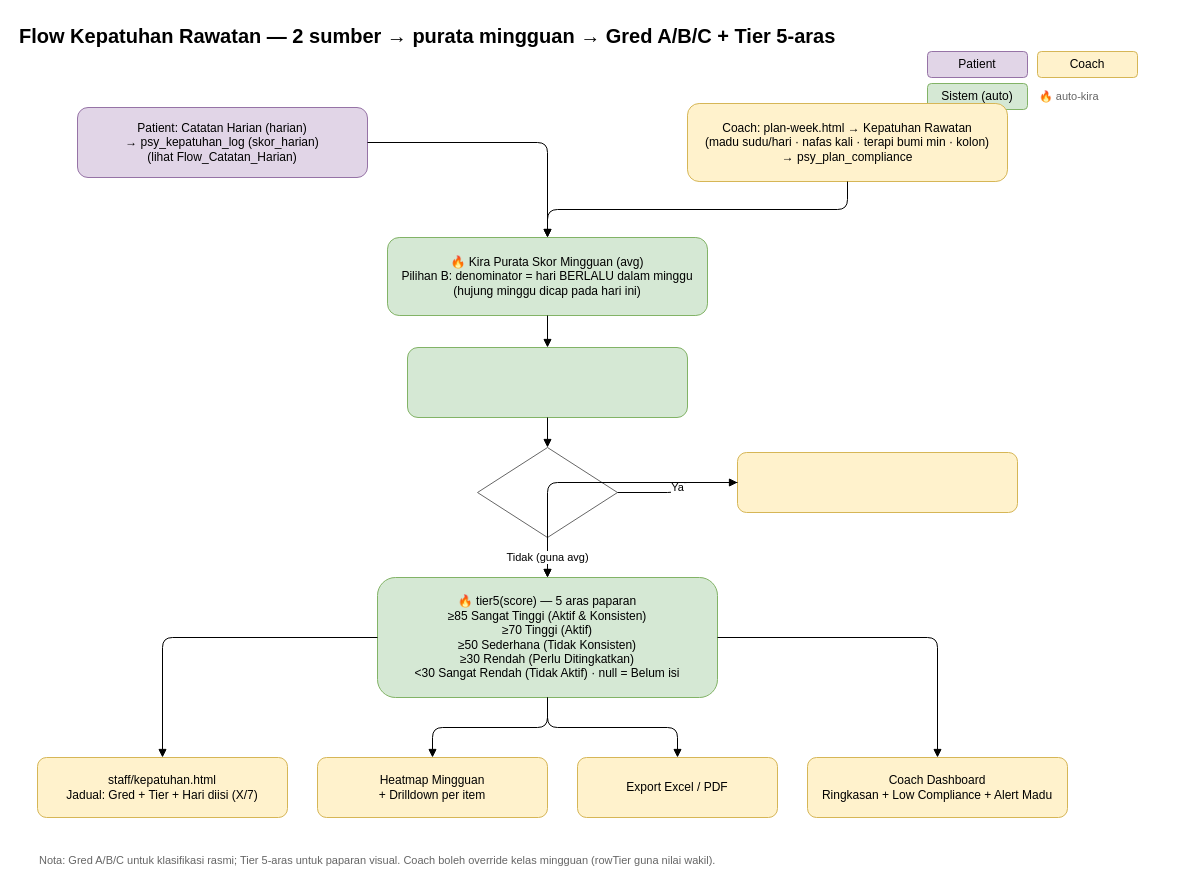
Some shapes in this 1204 by 884 pixel diagram are drawn without their labels. The centre of each missing label's shape, as x and y in pixels:
Coach override kelas?: point (547, 492)
Coach set kelas manual (A/B/C) → tier (A=90, B=60, C=20): point (877, 482)
🔥 classify(avg) A ≥ 85 · B ≥ 50 · C < 50 (CUT_A = 85, CUT_B = 50): point (547, 382)
